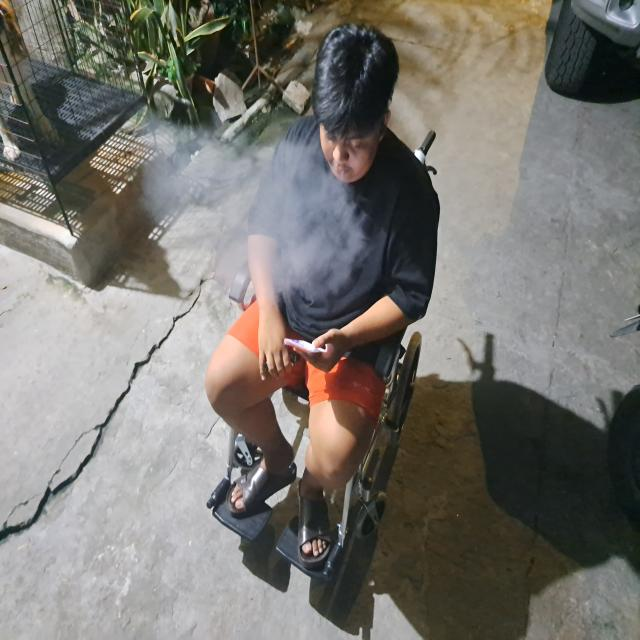wheelchairs: (196, 234, 447, 584)
